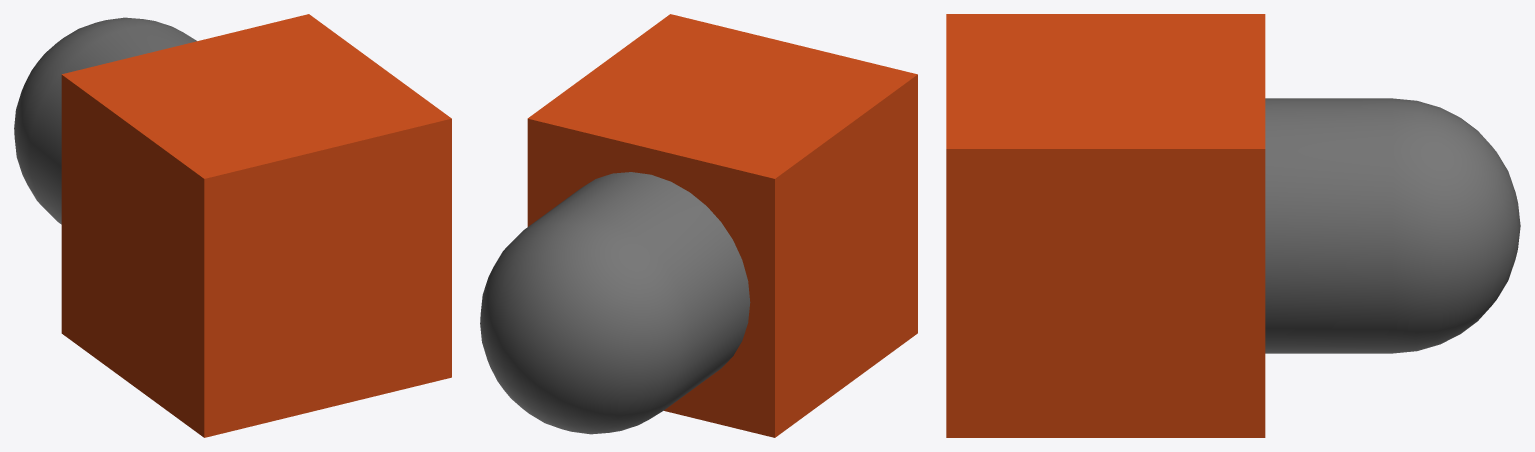
Rendered from Piston_LookAt.fbx.
3 renders of one model, left to right at view 1: azimuth 30°, elevation 25°; view 2: azimuth 150°, elevation 25°; view 3: azimuth 270°, elevation 25°, orthographic. The views are drawn at different scales.
Parts seen in each view (by area): view 1: Piston_LookAt; view 2: Piston_LookAt; view 3: Piston_LookAt.
Boxes of the visible parts, x1=… form: Piston_LookAt: x1=14, y1=14, x2=451, y2=437; Piston_LookAt: x1=480, y1=14, x2=917, y2=437; Piston_LookAt: x1=946, y1=14, x2=1520, y2=437.
Bounding box in the file's own units: 25 × 25 × 45.
